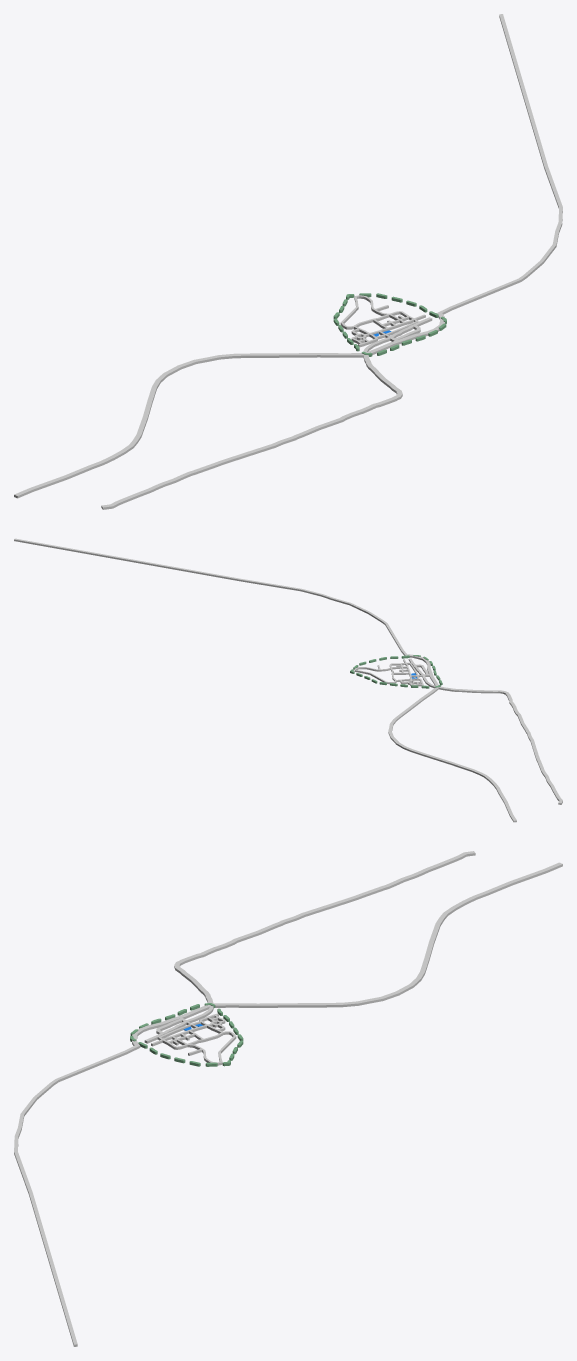
3 views of the same model, one above another, from view 1: azimuth 90°, elevation 25°; view 2: azimuth 150°, elevation 25°; view 3: azimuth 270°, elevation 25° (orthographic). The views are drawn at different scales.
Visible parts, largest first — view 1: R6, R8, R11, LK; view 2: R6, R8, R11, LK; view 3: R6, R8, R11, LK.
Part boxes in pixels (x1,y1,x2,y2): R6: [14, 313, 444, 509]; R8: [363, 14, 562, 352]; R11: [340, 295, 425, 347]; LK: [333, 293, 446, 356]; R6: [388, 654, 562, 822]; R8: [14, 538, 435, 687]; R11: [354, 659, 423, 686]; LK: [350, 655, 442, 688]; R6: [132, 851, 562, 1047]; R8: [14, 1005, 213, 1346]; R11: [151, 1013, 236, 1065]; LK: [130, 1003, 243, 1066].
Bounding box in the file's own units: 18.12 × 0.0506 × 8.52.
